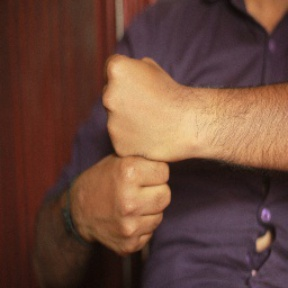G: (76, 49, 188, 254)
